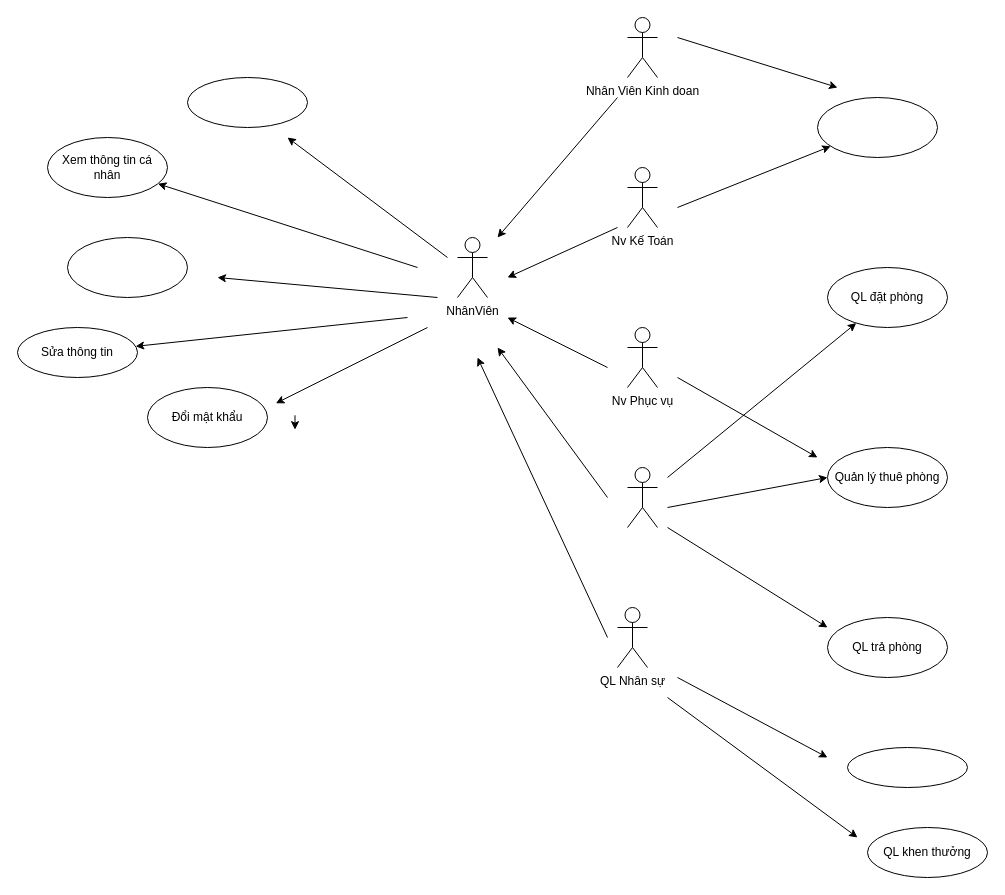
Image size: 1005x895. Some labels were removed from this diagram. Here are the shapes that lost their labels. From the top down, the centre of each, then its label:
At (x=247, y=102): "Đăng nhập".
At (x=877, y=127): "Thống kê báo cáo".
At (x=127, y=267): "Đăng Xuất".
At (x=642, y=497): "Nv Tiếp Tân".
At (x=907, y=767): "Quản lý hồ sơ nhân viên".
